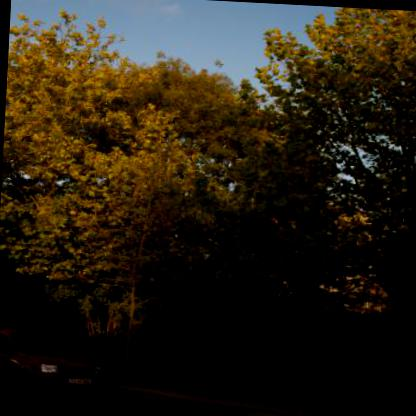car: (0, 324, 111, 403)
